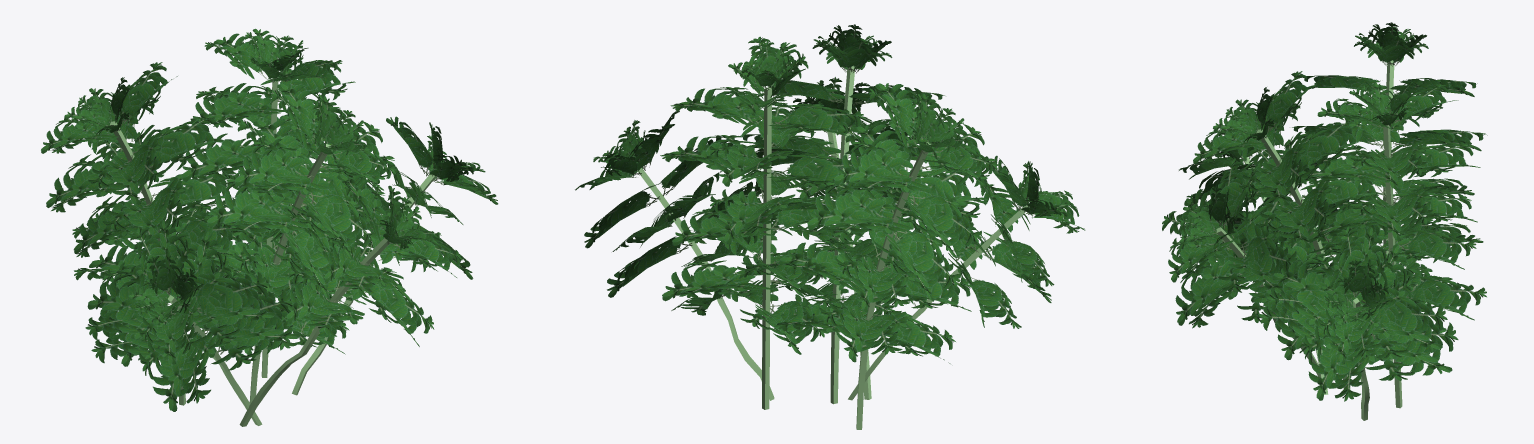
The model's file is peppermint-external.fbx.
3 views of the same model, side by side, from view 1: azimuth 30°, elevation 25°; view 2: azimuth 150°, elevation 25°; view 3: azimuth 270°, elevation 25° (orthographic). The views are drawn at different scales.
Parts seen in each view (by area): view 1: Plane096, Plane048, Plane094, Plane052, Plane097, Plane092, Plane049, Plane114, Plane069, Plane073, Plane072, Plane099 (+57 smaller); view 2: Plane070, Plane078, Plane074, Plane086, Plane071, Plane032, Plane068, Line002, Plane040, Plane081, Plane038, Plane029 (+54 smaller); view 3: Plane130, Plane131, Plane126, Plane116, Plane112, Plane047, Plane127, Plane024, Plane051, Plane133, Plane132, Plane040 (+54 smaller).
Boxes of the visible parts, box(x1,y1,x2,y2) form: Plane096: box(187, 271, 275, 347); Plane048: box(207, 173, 308, 241); Plane094: box(139, 325, 216, 411); Plane052: box(234, 136, 327, 202); Plane097: box(85, 264, 176, 340); Plane092: box(202, 289, 300, 370); Plane049: box(291, 184, 378, 259); Plane114: box(287, 264, 364, 336); Plane069: box(102, 177, 192, 245); Plane073: box(88, 135, 167, 204); Plane072: box(136, 113, 228, 170); Plane099: box(130, 220, 197, 295); Plane070: box(807, 179, 913, 241); Plane078: box(874, 219, 961, 301); Plane074: box(834, 136, 929, 198); Plane086: box(819, 300, 908, 362); Plane071: box(892, 186, 981, 258); Plane032: box(710, 189, 795, 244); Plane068: box(836, 252, 915, 312); Line002: box(762, 87, 771, 409); Plane040: box(662, 259, 773, 301); Plane081: box(778, 240, 864, 292); Plane038: box(740, 294, 828, 354); Plane029: box(768, 103, 865, 140); Plane130: box(1363, 286, 1447, 358); Plane131: box(1266, 256, 1355, 331); Plane126: box(1303, 326, 1380, 401); Plane116: box(1218, 225, 1296, 293); Plane112: box(1175, 255, 1249, 328); Plane047: box(1256, 180, 1338, 248); Plane127: box(1365, 307, 1458, 380); Plane024: box(1349, 188, 1437, 240); Plane051: box(1239, 140, 1311, 205); Plane133: box(1332, 226, 1393, 297); Plane132: box(1319, 308, 1380, 364); Plane040: box(1406, 275, 1486, 320).
Bounding box in the file's own units: 1062 × 776 × 793.
